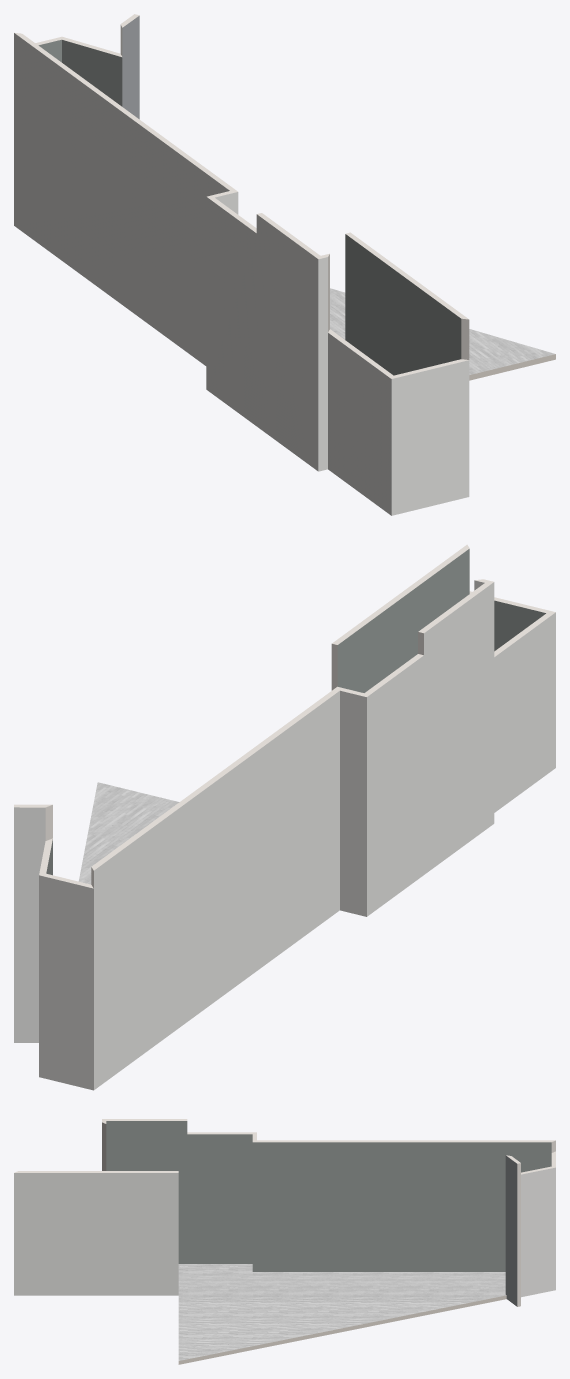
Rendered from TheaterWalkLeft.glb.
3 views of the same model, one above another, from view 1: azimuth 30°, elevation 25°; view 2: azimuth 150°, elevation 25°; view 3: azimuth 270°, elevation 25° (orthographic). The views are drawn at different scales.
Visible parts, largest first — view 1: wall_8, wall_0, wall_5, wall_12, wall_6, floor_Other, wall_16, wall_9, wall_18, wall_27, wall_13, wall_11; view 2: wall_8, wall_0, wall_7, wall_6, wall_12, wall_4, wall_2, floor_Other, wall_27, wall_20, wall_13, wall_11; view 3: wall_26, wall_1, floor_Other, wall_10, wall_3, wall_18, floor_Other_2, wall_27, wall_19, joint_2, wall_11, wall_13.
Part boxes in pixels (x1=…): wall_8: x1=14, y1=33, x2=229, y2=365; wall_0: x1=206, y1=197, x2=318, y2=470; wall_5: x1=391, y1=360, x2=469, y2=515; wall_12: x1=345, y1=234, x2=461, y2=375; wall_6: x1=328, y1=333, x2=391, y2=515; floor_Other: x1=330, y1=288, x2=555, y2=374; wall_16: x1=62, y1=40, x2=122, y2=106; wall_9: x1=318, y1=257, x2=327, y2=471; wall_18: x1=122, y1=15, x2=139, y2=119; wall_27: x1=14, y1=32, x2=237, y2=191; wall_13: x1=345, y1=232, x2=468, y2=319; wall_11: x1=207, y1=196, x2=320, y2=258; wall_8: x1=94, y1=691, x2=339, y2=1089; wall_0: x1=367, y1=582, x2=494, y2=916; wall_7: x1=39, y1=875, x2=93, y2=1090; wall_6: x1=494, y1=612, x2=555, y2=812; wall_12: x1=337, y1=549, x2=469, y2=692; wall_4: x1=14, y1=807, x2=45, y2=1042; wall_2: x1=340, y1=690, x2=366, y2=916; floor_Other: x1=78, y1=782, x2=179, y2=884; wall_27: x1=91, y1=687, x2=339, y2=870; wall_20: x1=494, y1=600, x2=545, y2=651; wall_13: x1=331, y1=544, x2=469, y2=689; wall_11: x1=364, y1=582, x2=493, y2=696; wall_26: x1=252, y1=1142, x2=551, y2=1271; wall_1: x1=14, y1=1173, x2=178, y2=1295; floor_Other: x1=178, y1=1264, x2=506, y2=1360; wall_10: x1=106, y1=1121, x2=252, y2=1263; wall_3: x1=521, y1=1167, x2=555, y2=1297; wall_18: x1=505, y1=1155, x2=517, y2=1306; floor_Other_2: x1=178, y1=1295, x2=506, y2=1364; wall_27: x1=253, y1=1140, x2=555, y2=1142; wall_19: x1=506, y1=1155, x2=520, y2=1306; joint_2: x1=517, y1=1163, x2=520, y2=1306; wall_11: x1=102, y1=1119, x2=256, y2=1134; wall_13: x1=14, y1=1171, x2=178, y2=1172.
Size of the model in its own units: 5.6 by 3.88 by 12.97.
23 materials, 1 textured.
